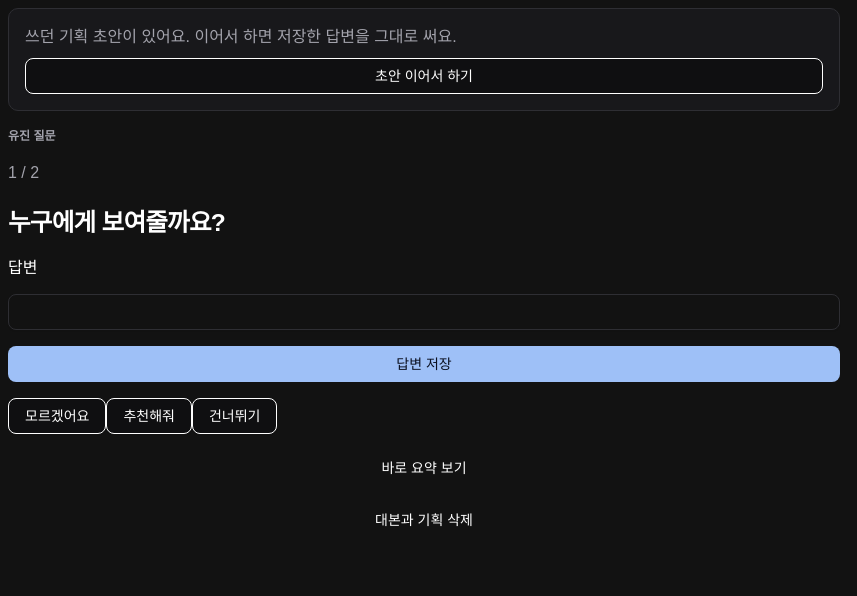
it: CreationInterview › submits a creator shortcut as an answer and advances only from the durable response
Check: the heading "누구에게 보여줄까요?" is shown, box 8,209 -> 225,236
Click the button "추천해줘" at coordinates (149, 416), box 106,398 -> 192,434
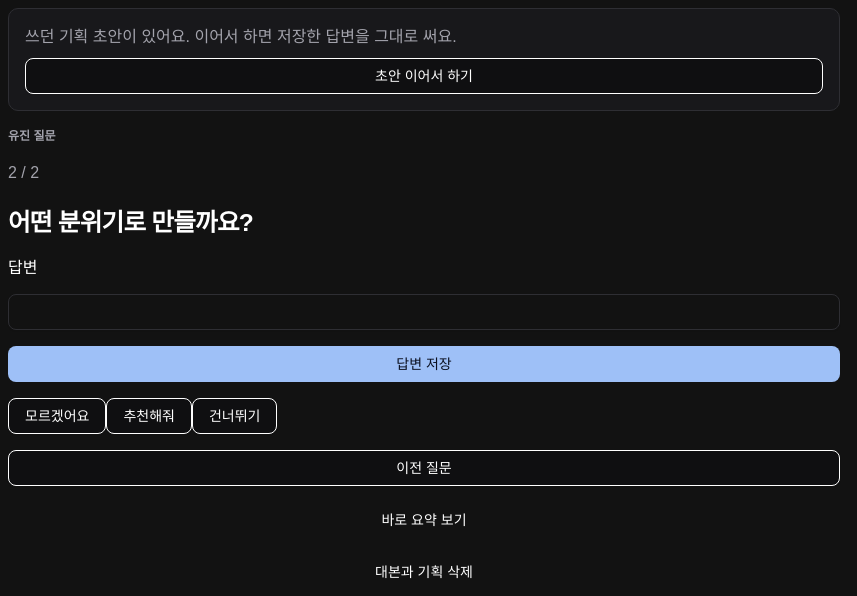
Check: the heading "어떤 분위기로 만들까요?" is shown, box 8,209 -> 253,236
Check: the text "2 / 2" is shown, box 8,164 -> 39,181
